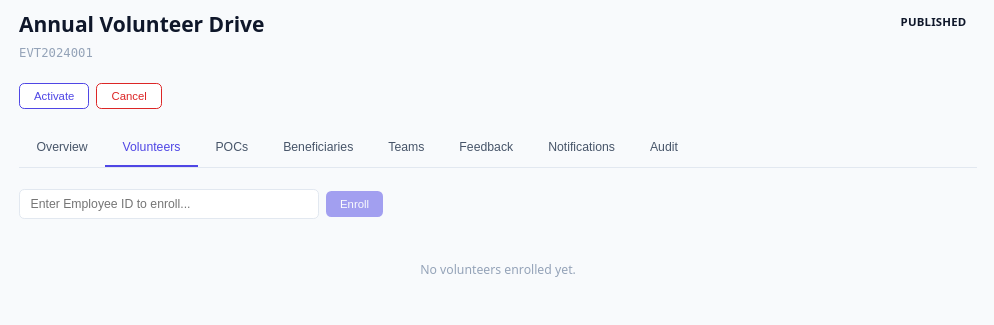
Test case: Volunteer Enrollment Error Handling › shows invalid status error when event cannot accept enrollments
Type "EMP003" into the field labelled "Employee ID to enroll". click: point(169, 204)
box: [19,189,319,219]
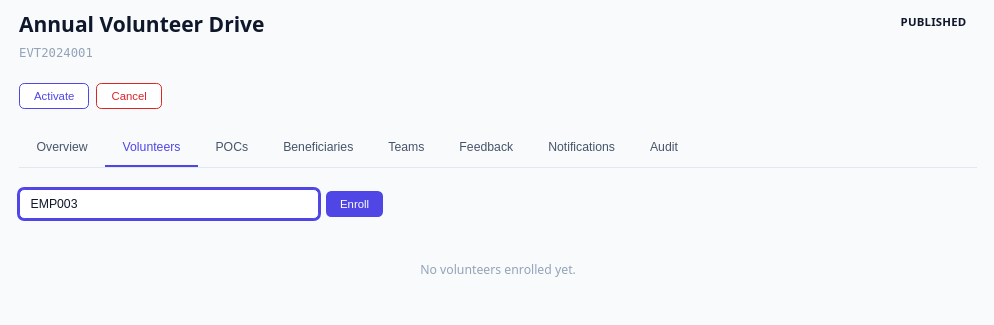
Click the button "Enroll". click: point(354, 204)
box: [326,191,383,217]
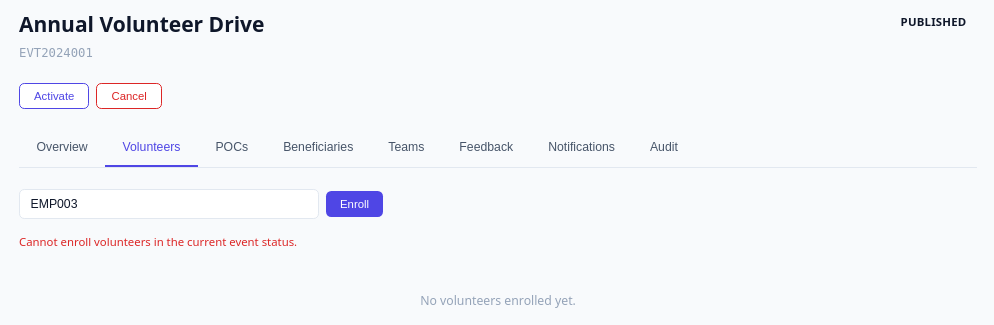
Check: the text "Cannot enroll volunteers in the current event status." is shown, box [19,234,297,249]
